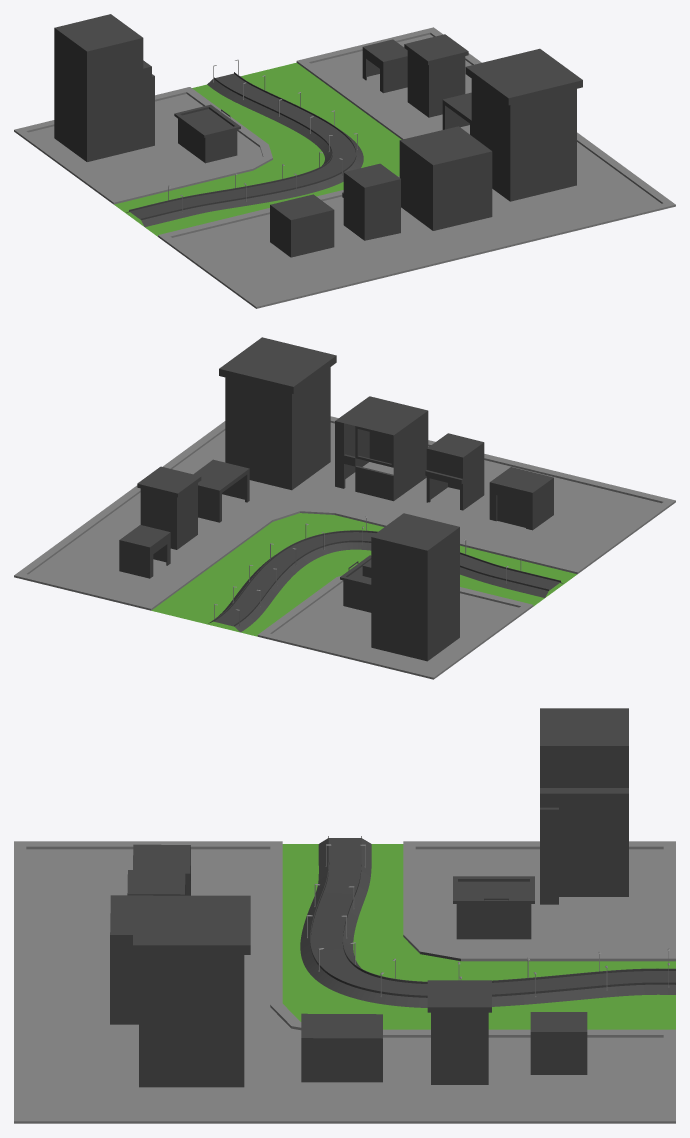
3 renders of one model, top to bottom at view 1: azimuth 30°, elevation 25°; view 2: azimuth 150°, elevation 25°; view 3: azimuth 270°, elevation 25°, orthographic. The views are drawn at different scales.
Parts seen in each view (by area): view 1: Cube.004; view 2: Cube.004; view 3: Cube.004.
Part boxes in pixels (left/top/right/bottom): Cube.004: left=14, top=14, right=675, bottom=308; Cube.004: left=14, top=337, right=675, bottom=679; Cube.004: left=14, top=708, right=675, bottom=1123.
Size of the model in its own units: 20000 by 5062 by 20000.
